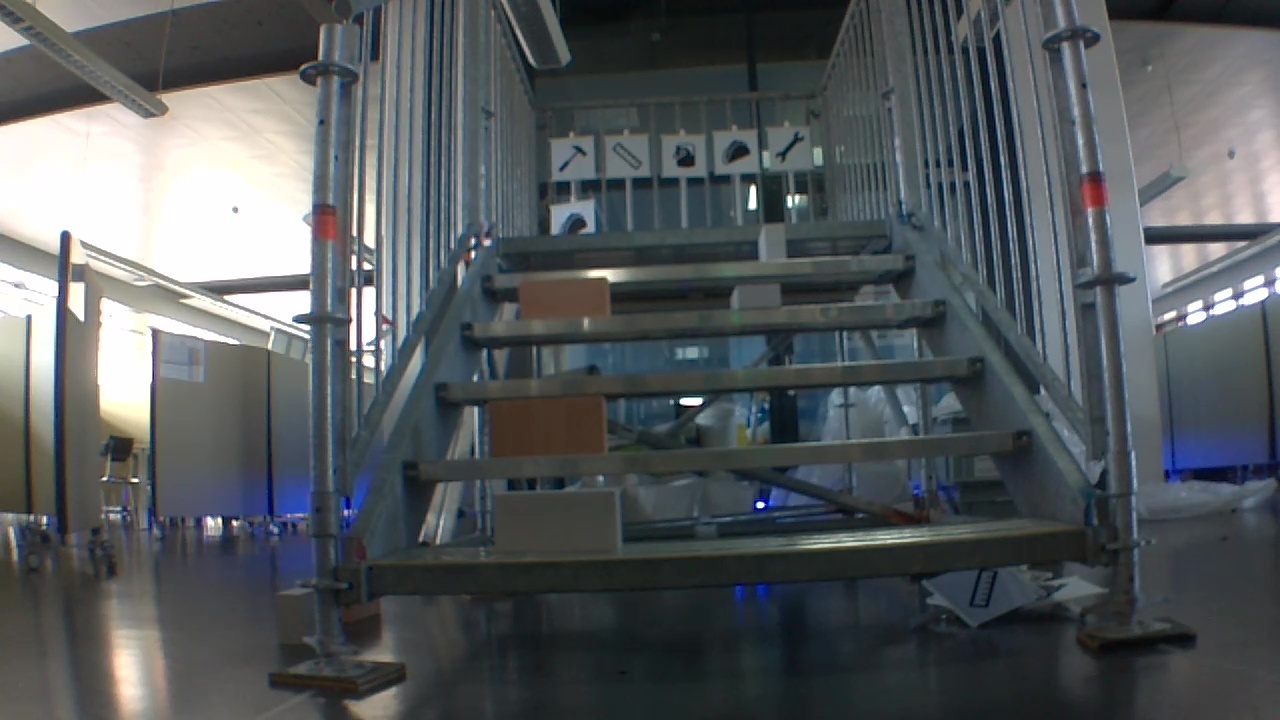brick: (492, 489, 619, 552), (490, 397, 606, 453), (519, 277, 610, 319), (757, 221, 785, 261), (731, 284, 780, 306)
bucket: (667, 139, 700, 170)
edge: (371, 527, 1091, 590), (401, 431, 1034, 477), (437, 354, 991, 398), (462, 296, 950, 336), (483, 254, 917, 282), (501, 219, 889, 246)
hammer: (553, 141, 590, 177)
ruler: (607, 137, 643, 170)
stairs: (298, 4, 1161, 681)
steps: (366, 211, 1100, 595)
taco: (719, 135, 756, 167)
wrench: (773, 127, 807, 165)
